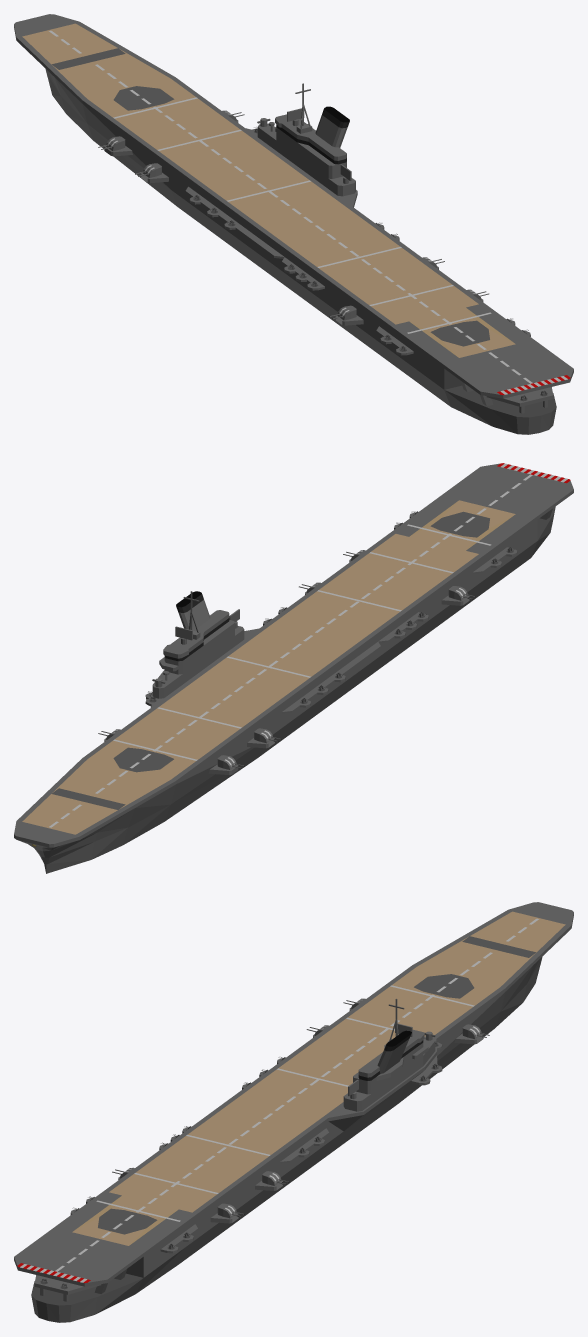
Rendered from taihou.obj.
3 views of the same model, one above another, from view 1: azimuth 30°, elevation 25°; view 2: azimuth 150°, elevation 25°; view 3: azimuth 330°, elevation 25° (orthographic).
Parts seen in each view (by area): view 1: ShapeIndexedFaceSet.003_ShapeIndexedFaceSet.004, ShapeIndexedFaceSet.001_ShapeIndexedFaceSet.002, ShapeIndexedFaceSet.009_ShapeIndexedFaceSet.010, ShapeIndexedFaceSet.005_ShapeIndexedFaceSet.006, ShapeIndexedFaceSet.019_ShapeIndexedFaceSet.020, ShapeIndexedFaceSet.013_ShapeIndexedFaceSet.014, ShapeIndexedFaceSet_ShapeIndexedFaceSet.001, ShapeIndexedFaceSet.008_ShapeIndexedFaceSet.009, ShapeIndexedFaceSet.007_ShapeIndexedFaceSet.008; view 2: ShapeIndexedFaceSet.003_ShapeIndexedFaceSet.004, ShapeIndexedFaceSet.001_ShapeIndexedFaceSet.002, ShapeIndexedFaceSet.009_ShapeIndexedFaceSet.010, ShapeIndexedFaceSet.005_ShapeIndexedFaceSet.006, ShapeIndexedFaceSet.019_ShapeIndexedFaceSet.020, ShapeIndexedFaceSet_ShapeIndexedFaceSet.001, ShapeIndexedFaceSet.013_ShapeIndexedFaceSet.014; view 3: ShapeIndexedFaceSet.003_ShapeIndexedFaceSet.004, ShapeIndexedFaceSet.001_ShapeIndexedFaceSet.002, ShapeIndexedFaceSet.009_ShapeIndexedFaceSet.010, ShapeIndexedFaceSet.005_ShapeIndexedFaceSet.006, ShapeIndexedFaceSet_ShapeIndexedFaceSet.001, ShapeIndexedFaceSet.013_ShapeIndexedFaceSet.014, ShapeIndexedFaceSet.019_ShapeIndexedFaceSet.020, ShapeIndexedFaceSet.008_ShapeIndexedFaceSet.009, ShapeIndexedFaceSet.007_ShapeIndexedFaceSet.008.
Boxes of the visible parts, <box> form: ShapeIndexedFaceSet.003_ShapeIndexedFaceSet.004: <box>22,23,515,357</box>; ShapeIndexedFaceSet.001_ShapeIndexedFaceSet.002: <box>14,14,573,434</box>; ShapeIndexedFaceSet.009_ShapeIndexedFaceSet.010: <box>257,83,355,196</box>; ShapeIndexedFaceSet.005_ShapeIndexedFaceSet.006: <box>51,48,489,346</box>; ShapeIndexedFaceSet.019_ShapeIndexedFaceSet.020: <box>104,119,530,355</box>; ShapeIndexedFaceSet.013_ShapeIndexedFaceSet.014: <box>49,30,532,383</box>; ShapeIndexedFaceSet_ShapeIndexedFaceSet.001: <box>14,25,480,394</box>; ShapeIndexedFaceSet.008_ShapeIndexedFaceSet.009: <box>444,369,556,417</box>; ShapeIndexedFaceSet.007_ShapeIndexedFaceSet.008: <box>461,369,573,413</box>; ShapeIndexedFaceSet.003_ShapeIndexedFaceSet.004: <box>22,500,515,834</box>; ShapeIndexedFaceSet.001_ShapeIndexedFaceSet.002: <box>14,463,573,873</box>; ShapeIndexedFaceSet.009_ShapeIndexedFaceSet.010: <box>152,591,244,698</box>; ShapeIndexedFaceSet.005_ShapeIndexedFaceSet.006: <box>51,511,489,809</box>; ShapeIndexedFaceSet.019_ShapeIndexedFaceSet.020: <box>104,512,517,775</box>; ShapeIndexedFaceSet_ShapeIndexedFaceSet.001: <box>14,490,573,847</box>; ShapeIndexedFaceSet.013_ShapeIndexedFaceSet.014: <box>49,474,532,827</box>; ShapeIndexedFaceSet.003_ShapeIndexedFaceSet.004: <box>72,911,565,1245</box>; ShapeIndexedFaceSet.001_ShapeIndexedFaceSet.002: <box>14,902,573,1322</box>; ShapeIndexedFaceSet.009_ShapeIndexedFaceSet.010: <box>343,998,435,1111</box>; ShapeIndexedFaceSet.005_ShapeIndexedFaceSet.006: <box>98,936,536,1234</box>; ShapeIndexedFaceSet_ShapeIndexedFaceSet.001: <box>107,913,573,1282</box>; ShapeIndexedFaceSet.013_ShapeIndexedFaceSet.014: <box>55,918,538,1271</box>; ShapeIndexedFaceSet.019_ShapeIndexedFaceSet.020: <box>70,1007,483,1253</box>; ShapeIndexedFaceSet.008_ShapeIndexedFaceSet.009: <box>31,1257,143,1305</box>; ShapeIndexedFaceSet.007_ShapeIndexedFaceSet.008: <box>14,1257,126,1301</box>.
Size of the model in its own units: 102 by 79.38 by 602.
